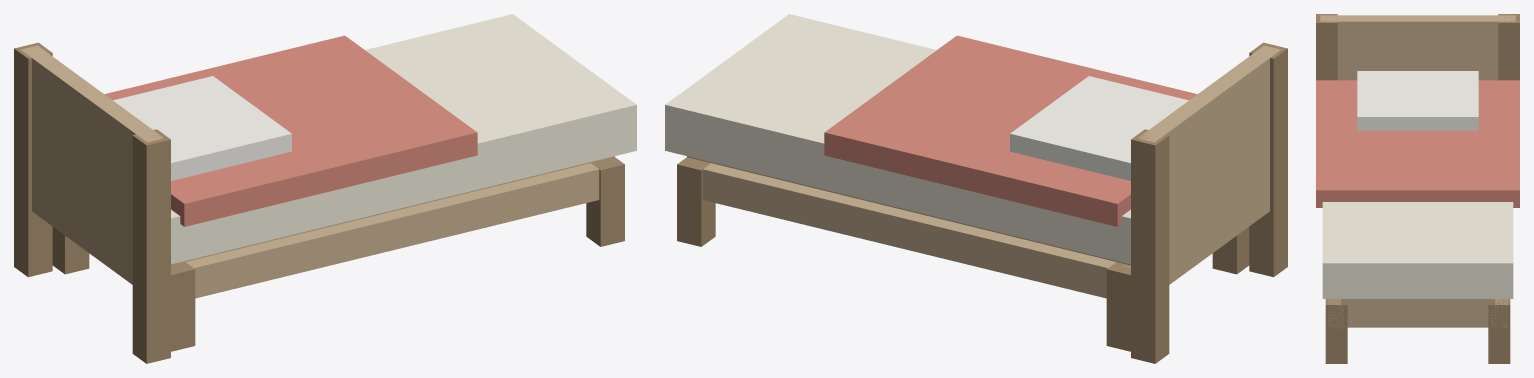
File: 18-Casas_cama_basica.glb
3 renders of one model, left to right at view 1: azimuth 30°, elevation 25°; view 2: azimuth 150°, elevation 25°; view 3: azimuth 270°, elevation 25°, orthographic. The views are drawn at different scales.
Visible parts, largest first — view 1: SM_Cama_M_Mueble_Tela_Crema, SM_Cama_M_Mueble_Madera_Clara, SM_Cama_M_Mueble_Tela_Roja, SM_Cama_M_Mueble_Madera_Oscura, SM_Cama_M_Mueble_Lino; view 2: SM_Cama_M_Mueble_Tela_Crema, SM_Cama_M_Mueble_Madera_Clara, SM_Cama_M_Mueble_Tela_Roja, SM_Cama_M_Mueble_Madera_Oscura, SM_Cama_M_Mueble_Lino; view 3: SM_Cama_M_Mueble_Tela_Roja, SM_Cama_M_Mueble_Tela_Crema, SM_Cama_M_Mueble_Madera_Clara, SM_Cama_M_Mueble_Lino, SM_Cama_M_Mueble_Madera_Oscura.
Part boxes in pixels (box(x1,y1,x2,y2)): SM_Cama_M_Mueble_Tela_Crema: box(171, 14, 636, 264); SM_Cama_M_Mueble_Madera_Clara: box(21, 45, 614, 298); SM_Cama_M_Mueble_Tela_Roja: box(104, 35, 477, 226); SM_Cama_M_Mueble_Madera_Oscura: box(14, 42, 624, 363); SM_Cama_M_Mueble_Lino: box(113, 76, 291, 180); SM_Cama_M_Mueble_Tela_Crema: box(665, 14, 1130, 264); SM_Cama_M_Mueble_Madera_Clara: box(687, 45, 1280, 298); SM_Cama_M_Mueble_Tela_Roja: box(824, 35, 1197, 226); SM_Cama_M_Mueble_Madera_Oscura: box(677, 42, 1287, 363); SM_Cama_M_Mueble_Lino: box(1010, 76, 1188, 180); SM_Cama_M_Mueble_Tela_Roja: box(1316, 80, 1519, 207); SM_Cama_M_Mueble_Tela_Crema: box(1322, 202, 1513, 298); SM_Cama_M_Mueble_Madera_Clara: box(1320, 15, 1515, 328); SM_Cama_M_Mueble_Lino: box(1357, 71, 1478, 130); SM_Cama_M_Mueble_Madera_Oscura: box(1316, 14, 1519, 363).
Bounding box in the file's own units: 2.02 × 0.855 × 0.94.
